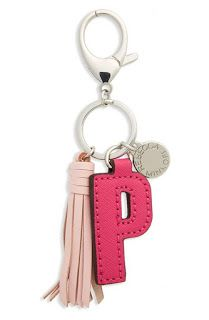cuero: (62, 158, 154, 308)
